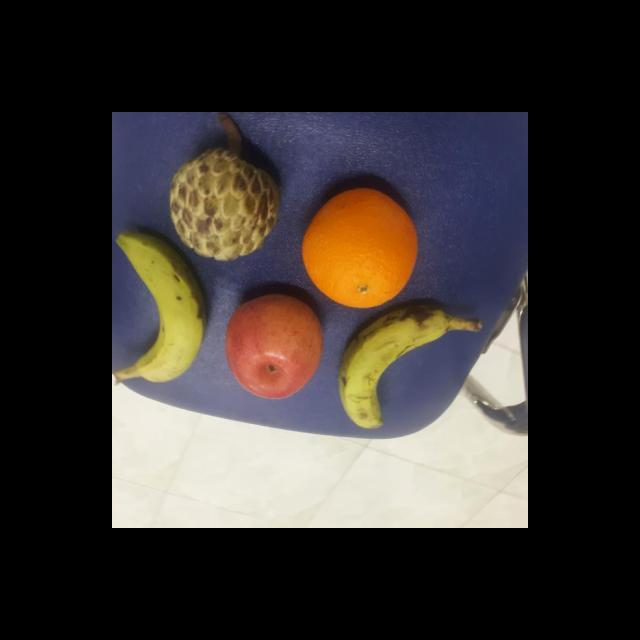Sakya fruit: (169, 146, 285, 266)
apple: (221, 291, 327, 401)
banana: (332, 297, 451, 432), (118, 226, 207, 384)
